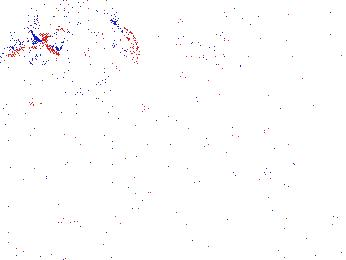moon jellyfish: (166, 44, 257, 135), (59, 21, 140, 100), (156, 9, 236, 77), (1, 43, 69, 106), (28, 1, 117, 43)
